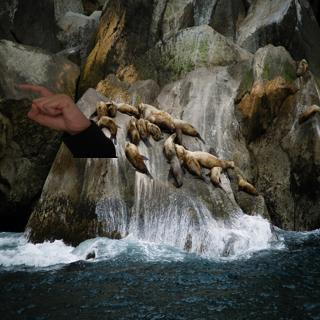WHY: (12, 82, 88, 130)
